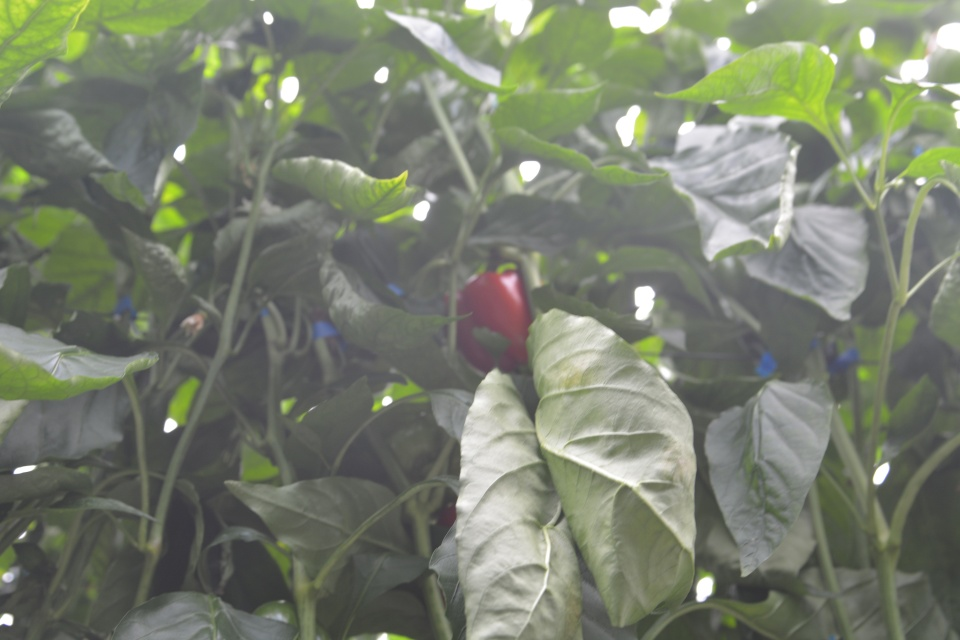fruit: (442, 262, 533, 374)
